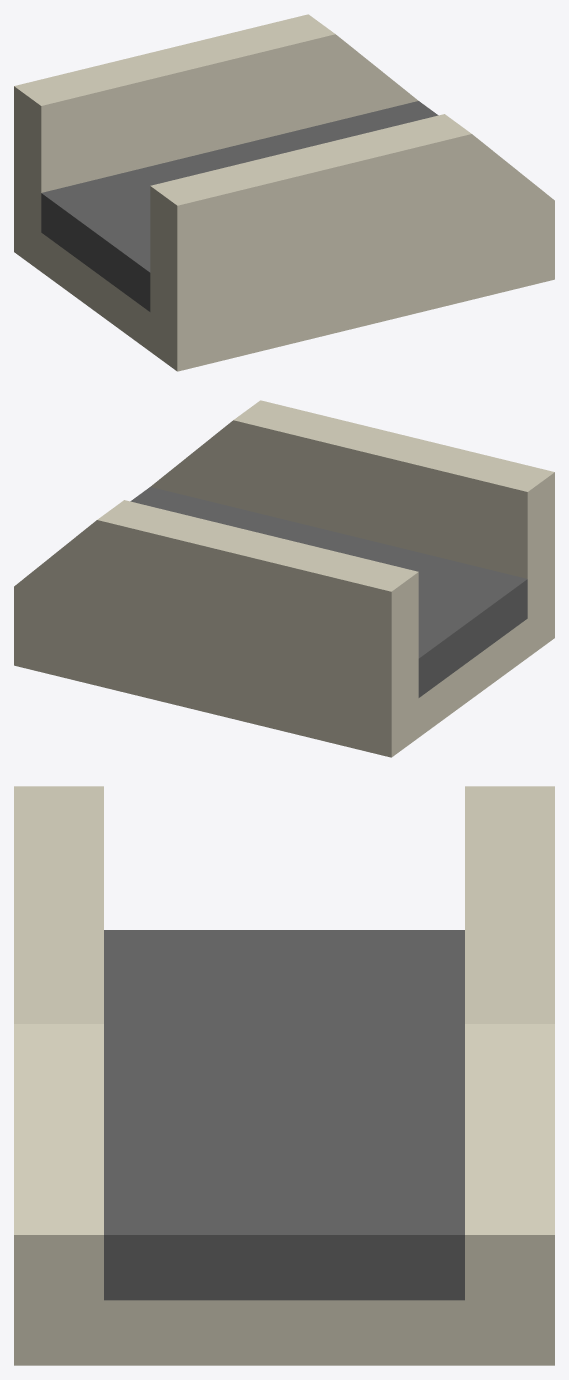
The model's file is roadTile_218.fbx.
3 views of the same model, one above another, from view 1: azimuth 30°, elevation 25°; view 2: azimuth 150°, elevation 25°; view 3: azimuth 270°, elevation 25° (orthographic). The views are drawn at different scales.
Parts seen in each view (by area): view 1: roadTile_218; view 2: roadTile_218; view 3: roadTile_218.
Part boxes in pixels (<box>): roadTile_218: <box>14,14,554,371</box>; roadTile_218: <box>14,400,554,757</box>; roadTile_218: <box>14,786,554,1365</box>.
Bounding box in the file's own units: 118 × 49.61 × 88.58.
